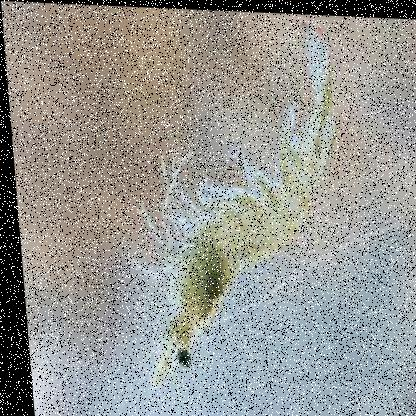shrimp: (113, 18, 356, 396)
